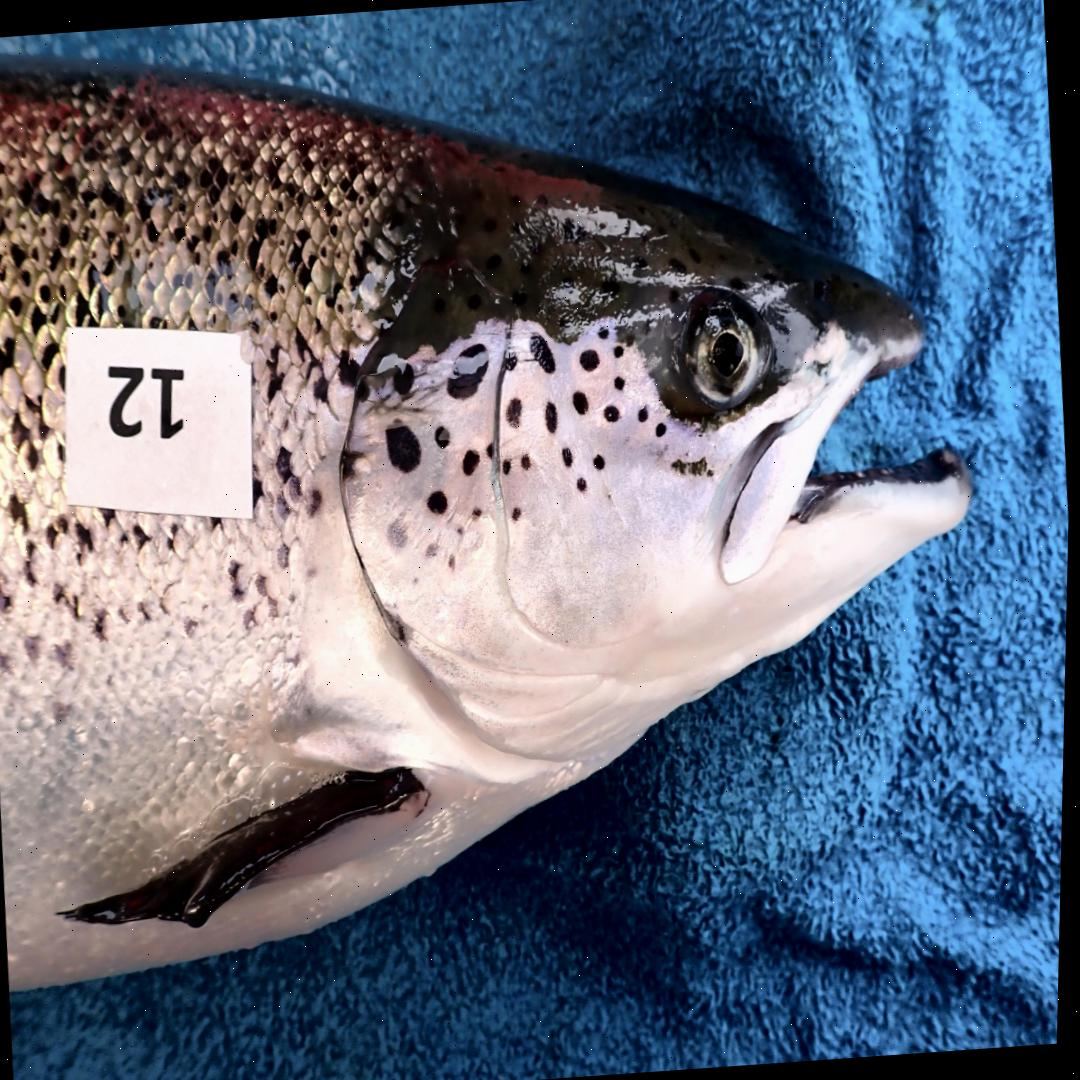spot: (449, 344, 489, 398), (386, 424, 423, 473), (531, 334, 557, 374), (394, 358, 416, 395), (387, 517, 409, 549), (342, 451, 362, 483), (507, 399, 524, 428), (429, 491, 449, 514), (580, 348, 600, 371), (464, 448, 481, 475), (546, 402, 560, 431), (436, 424, 452, 448), (573, 392, 589, 415), (356, 378, 371, 402), (604, 404, 622, 421), (427, 540, 442, 558), (563, 447, 575, 468), (409, 573, 425, 588), (505, 353, 519, 370), (594, 454, 607, 469), (449, 554, 459, 571), (639, 407, 650, 422), (578, 478, 589, 493), (512, 506, 523, 521), (522, 453, 531, 471), (657, 421, 668, 435), (614, 375, 625, 389), (503, 460, 512, 475), (598, 326, 609, 338), (614, 346, 625, 357), (487, 444, 494, 459), (473, 509, 482, 517), (459, 526, 466, 533)
